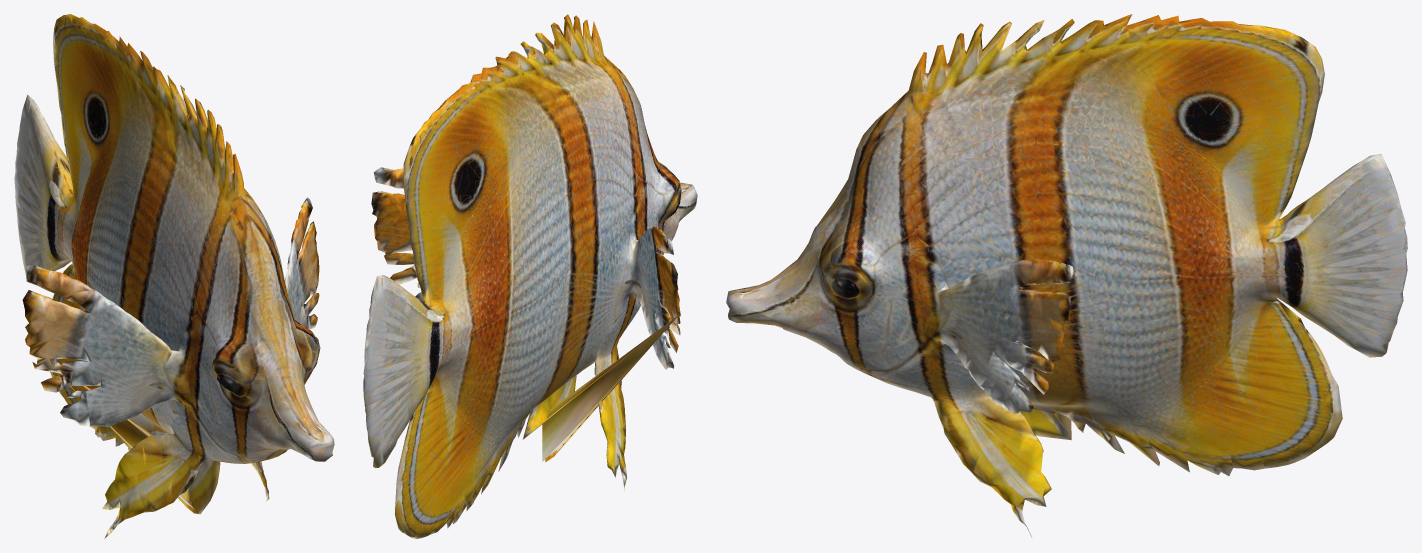
Rendered from fish_copperband.glb.
3 views of the same model, side by side, from view 1: azimuth 30°, elevation 25°; view 2: azimuth 150°, elevation 25°; view 3: azimuth 270°, elevation 25° (orthographic). The views are drawn at different scales.
Visible parts, largest first — view 1: geometry_0; view 2: geometry_0; view 3: geometry_0.
Boxes of the visible parts, x1,y1,x2,y2 form: geometry_0: [14, 14, 334, 538]; geometry_0: [363, 14, 697, 538]; geometry_0: [726, 14, 1407, 537].
Size of the model in its own units: 1.07 by 1.53 by 1.96.
Materials: 1 (1 with a texture image).
